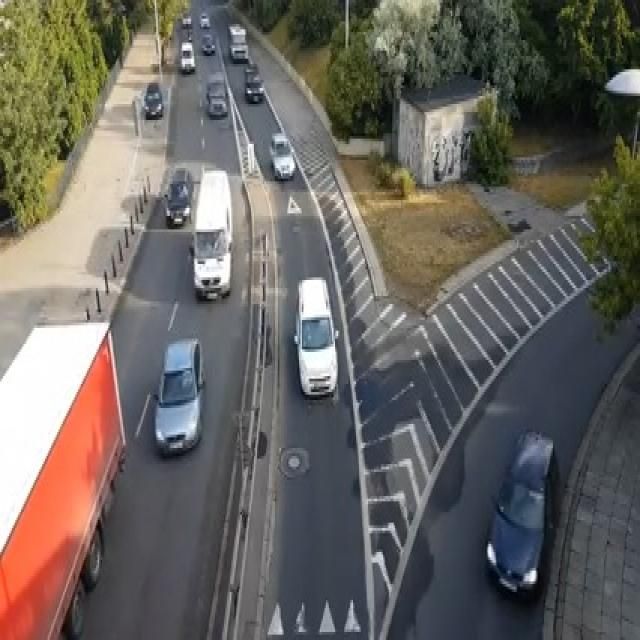bus: (0, 315, 126, 637), (189, 165, 233, 299)
car: (484, 426, 554, 594), (153, 336, 204, 456), (293, 275, 338, 397), (164, 165, 192, 227), (269, 130, 294, 178), (204, 70, 228, 118), (243, 62, 264, 102), (227, 22, 248, 62), (142, 80, 164, 117), (179, 40, 195, 72), (201, 32, 215, 53), (198, 11, 210, 29), (182, 10, 191, 27)
